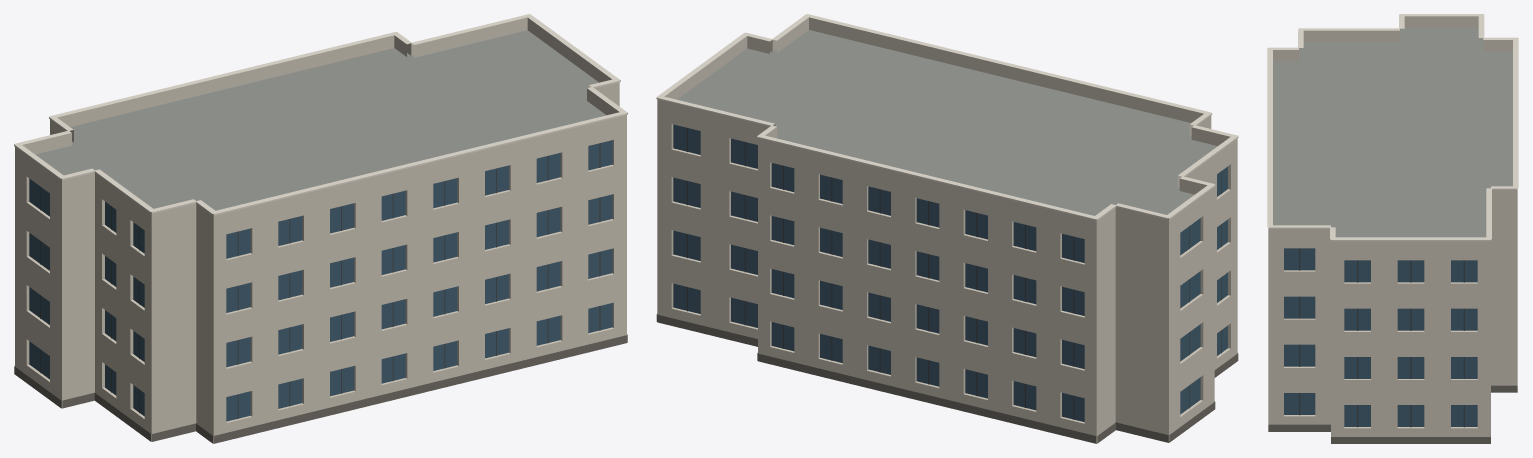
3 views of the same model, side by side, from view 1: azimuth 30°, elevation 25°; view 2: azimuth 150°, elevation 25°; view 3: azimuth 270°, elevation 25° (orthographic). The views are drawn at different scales.
Parts seen in each view (by area): view 1: eduTraining__wall, eduTraining__roof, eduTraining__glass, eduTraining__parapet, eduTraining__trim, eduTraining__base, eduTraining__frame; view 2: eduTraining__wall, eduTraining__roof, eduTraining__glass, eduTraining__parapet, eduTraining__trim, eduTraining__base, eduTraining__frame; view 3: eduTraining__roof, eduTraining__wall, eduTraining__glass, eduTraining__parapet, eduTraining__trim, eduTraining__base, eduTraining__frame.
Boxes of the visible parts, left/top/right/bottom form: eduTraining__wall: left=15, top=93, right=626, bottom=443; eduTraining__roof: left=35, top=30, right=605, bottom=443; eduTraining__glass: left=29, top=140, right=612, bottom=421; eduTraining__parapet: left=15, top=17, right=626, bottom=226; eduTraining__trim: left=14, top=14, right=627, bottom=215; eduTraining__base: left=14, top=334, right=627, bottom=443; eduTraining__frame: left=40, top=143, right=600, bottom=418; eduTraining__wall: left=657, top=110, right=1237, bottom=443; eduTraining__roof: left=677, top=30, right=1217, bottom=443; eduTraining__glass: left=673, top=124, right=1227, bottom=421; eduTraining__parapet: left=657, top=17, right=1237, bottom=231; eduTraining__trim: left=656, top=14, right=1238, bottom=220; eduTraining__base: left=656, top=314, right=1238, bottom=443; eduTraining__frame: left=686, top=128, right=1221, bottom=419; eduTraining__roof: left=1273, top=27, right=1512, bottom=237; eduTraining__wall: left=1268, top=199, right=1517, bottom=436; eduTraining__glass: left=1284, top=248, right=1477, bottom=426; eduTraining__parapet: left=1268, top=16, right=1517, bottom=250; eduTraining__trim: left=1267, top=14, right=1518, bottom=241; eduTraining__base: left=1268, top=385, right=1517, bottom=443; eduTraining__frame: left=1299, top=248, right=1464, bottom=427.
Size of the model in its own units: 34.15 by 14.42 by 16.07.
